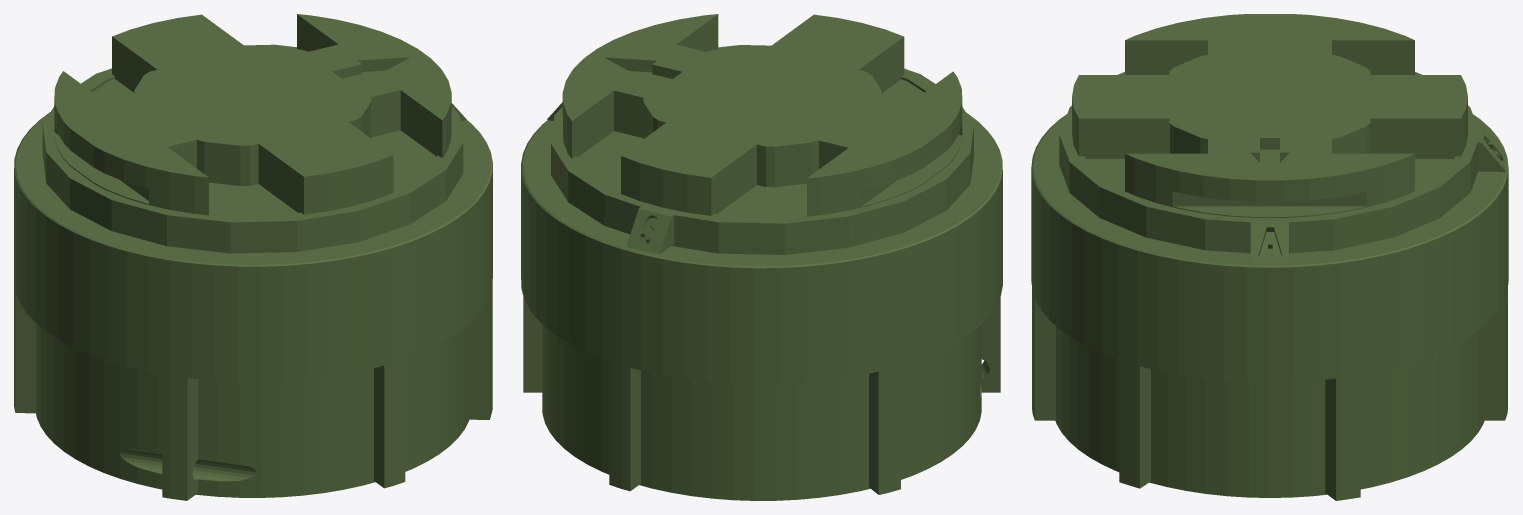
Rendered from m14-complete.glb.
3 renders of one model, left to right at view 1: azimuth 30°, elevation 25°; view 2: azimuth 150°, elevation 25°; view 3: azimuth 270°, elevation 25°, orthographic.
Size of the model in its own units: 0.056 by 0.04 by 0.056.
